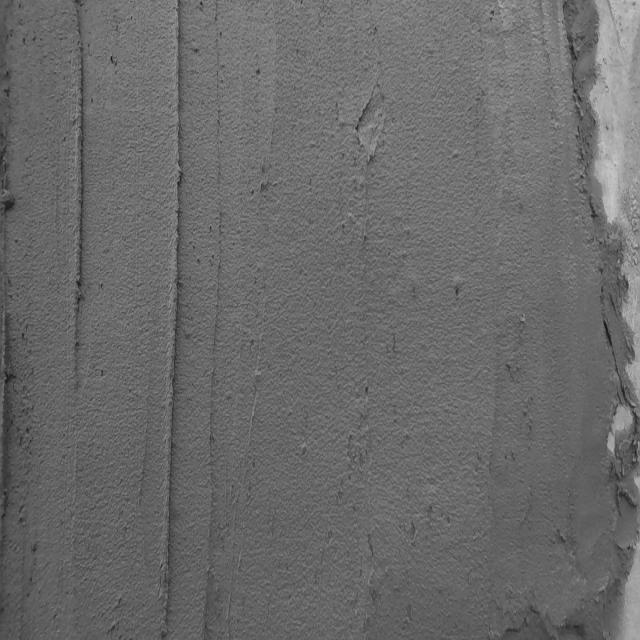trowels marks: (161, 2, 184, 636), (68, 5, 90, 385), (0, 287, 12, 526)
